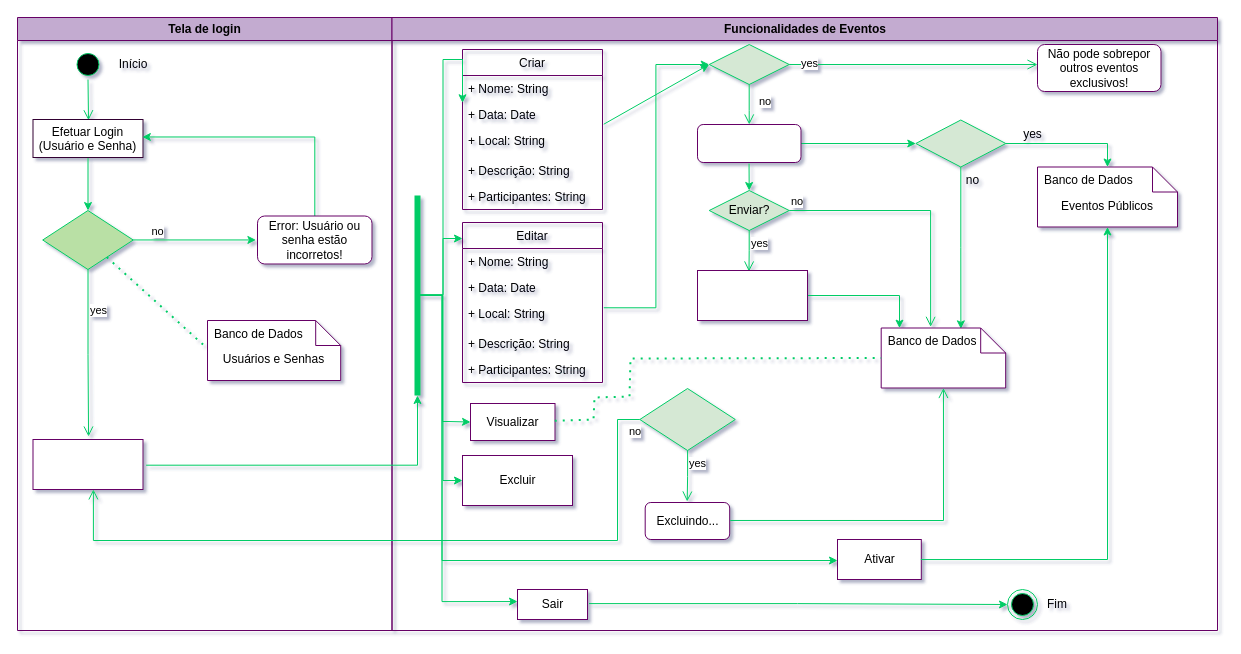
This 1241x654 diagram has some shape labels left out. Each missing label, with the centre of its shape:
"Dados validos?" goes at [687,419].
"Escolher para quem enviar" goes at [752,295].
"Evento Compartilhado" goes at [748,143].
"Eventos" goes at [943,357].
"Exclusivo?" goes at [748,64].
"Ingressar na página inicial (Dashboard)" goes at [87,464].
"Publicar?" goes at [960,143].
"Válidos?" goes at [87,240].
